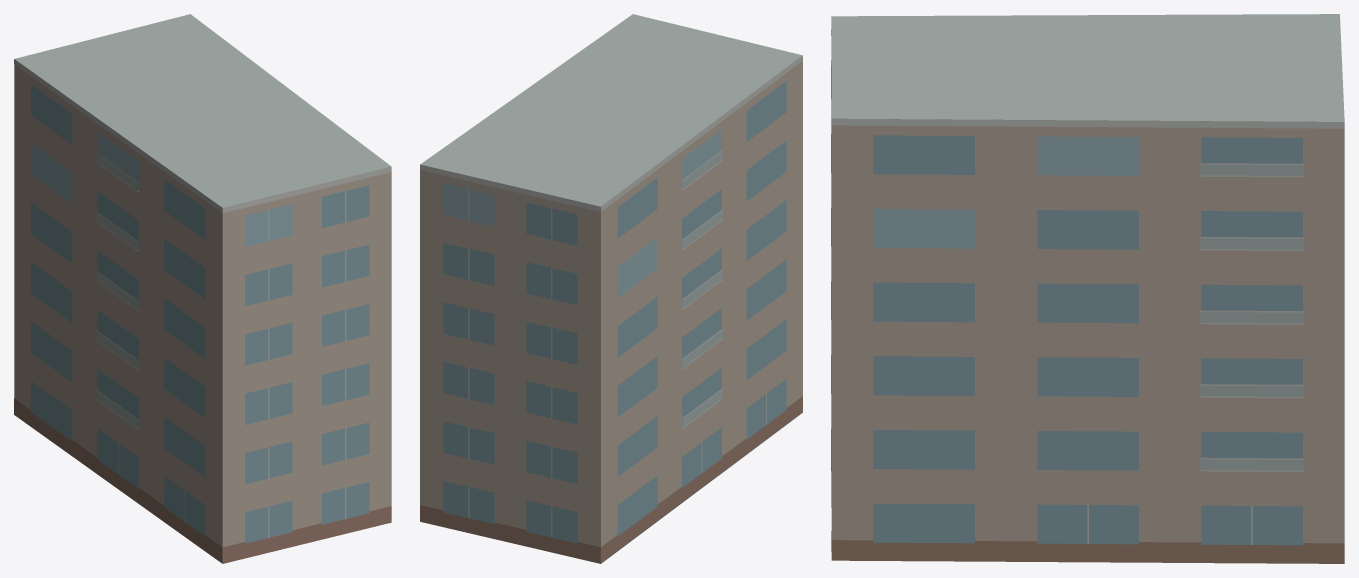
The model's file is survey-upis-32935674.glb.
3 views of the same model, side by side, from view 1: azimuth 30°, elevation 25°; view 2: azimuth 150°, elevation 25°; view 3: azimuth 270°, elevation 25° (orthographic). The views are drawn at different scales.
Visible parts, largest first — view 1: survey-upis-32935674.tmp; view 2: survey-upis-32935674.tmp; view 3: survey-upis-32935674.tmp.
Part boxes in pixels (left/top/right/bottom): survey-upis-32935674.tmp: left=14, top=14, right=391, bottom=563; survey-upis-32935674.tmp: left=420, top=14, right=802, bottom=563; survey-upis-32935674.tmp: left=831, top=14, right=1344, bottom=563.
Bounding box in the file's own units: 8.46 × 16.1 × 16.97.
